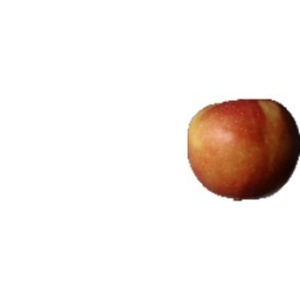maçã braeburn: (184, 94, 298, 205)
